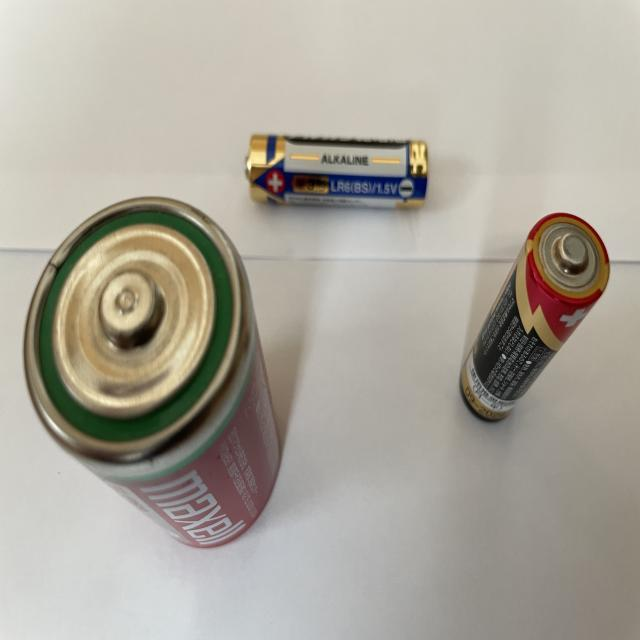hazardous waste: (22, 195, 280, 550), (462, 210, 612, 421), (241, 130, 429, 210)
